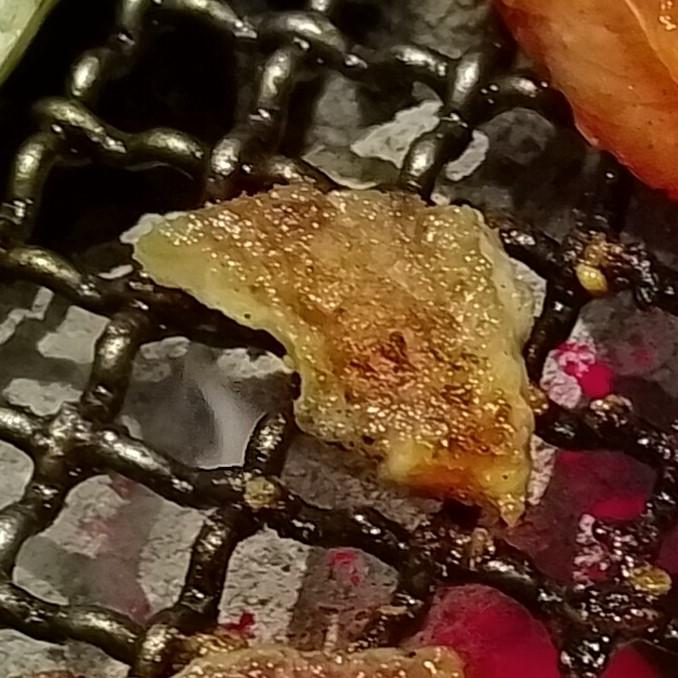Well-Cooked: (126, 176, 551, 531)
